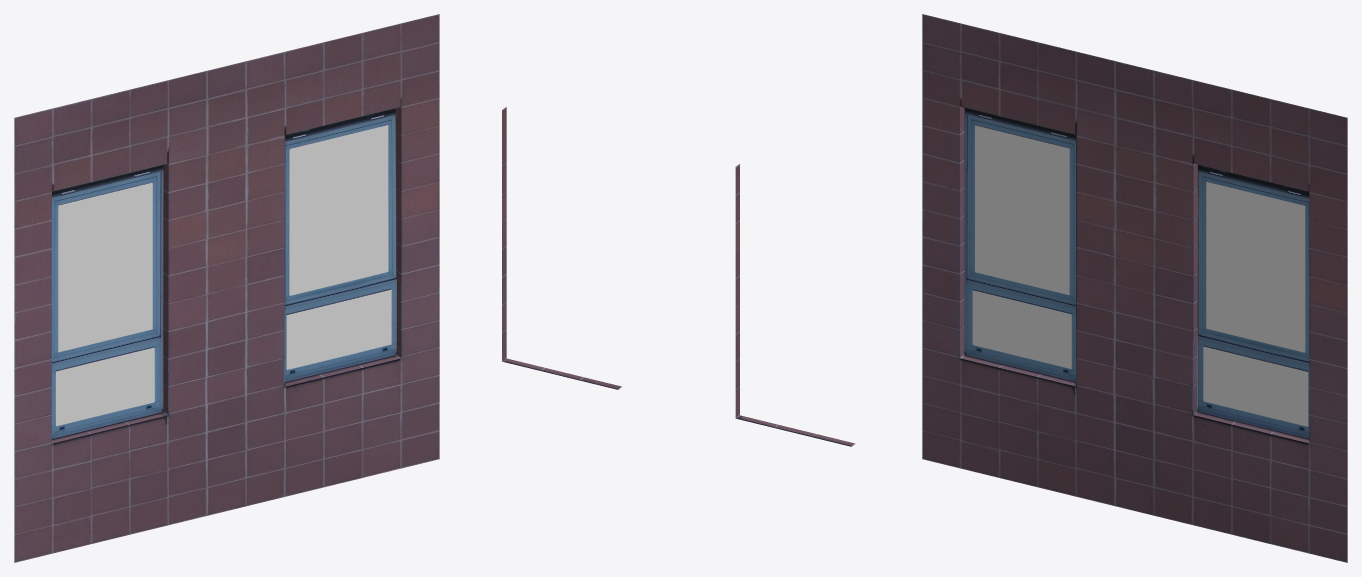
Rendered from building_h_windows.glb.
3 renders of one model, left to right at view 1: azimuth 30°, elevation 25°; view 2: azimuth 150°, elevation 25°; view 3: azimuth 330°, elevation 25°, orthographic.
Parts seen in each view (by area): view 1: building_h_windows; view 2: building_h_windows; view 3: building_h_windows.
Part boxes in pixels (box(x1,y1,x2,y2)): building_h_windows: box(14, 14, 439, 562); building_h_windows: box(502, 107, 855, 446); building_h_windows: box(922, 14, 1347, 562).
Bounding box in the file's own units: 5 × 5 × 0.0902.
2 materials, 1 textured.
